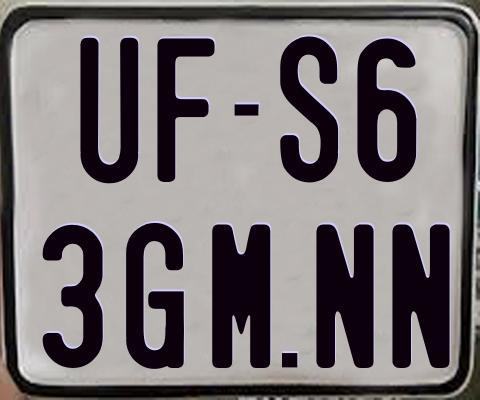3: (41, 224, 105, 370)
6: (355, 37, 414, 182)
F: (156, 35, 220, 179)
G: (124, 220, 185, 372)
M: (210, 221, 269, 371)
N: (315, 223, 379, 372), (392, 223, 452, 372)
S: (279, 35, 342, 187)
U: (78, 36, 141, 188)
